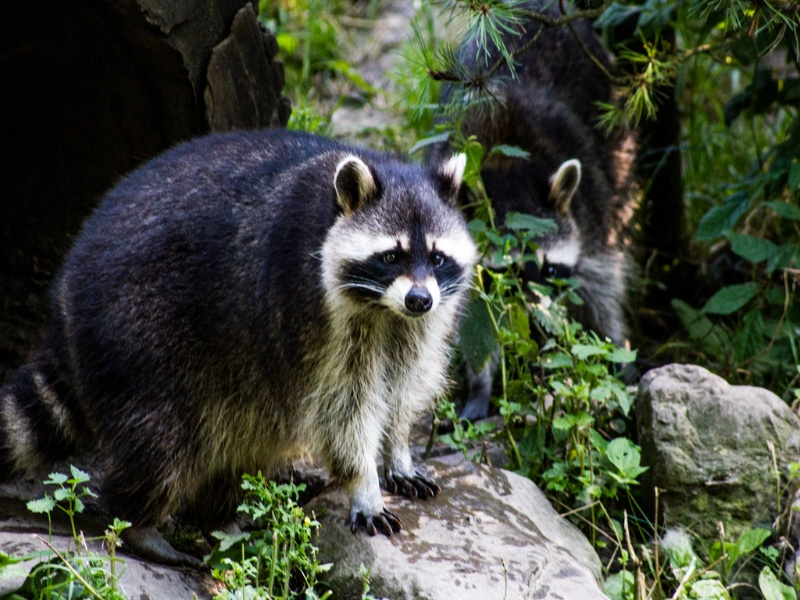raccoon: (1, 119, 483, 570), (435, 44, 654, 452)
